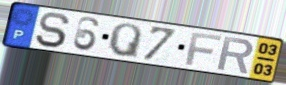6: (71, 16, 102, 54)
7: (144, 24, 180, 63)
F: (184, 31, 224, 67)
Q: (107, 22, 144, 61)
R: (215, 35, 256, 75)
S: (34, 11, 73, 49)
